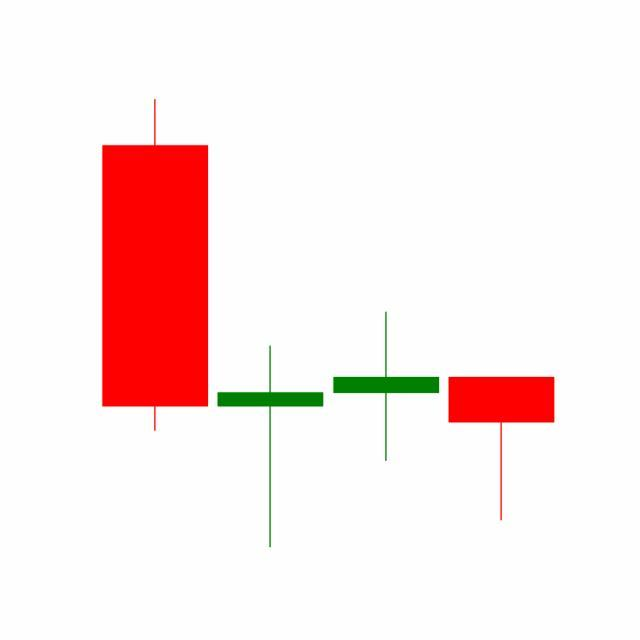Hammer: (444, 375, 560, 523)
